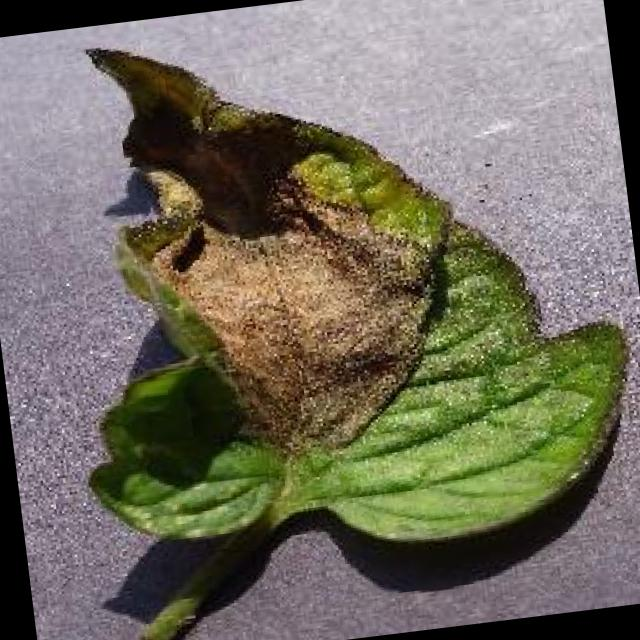Tomato_Late_Blight: (83, 0, 466, 456)
